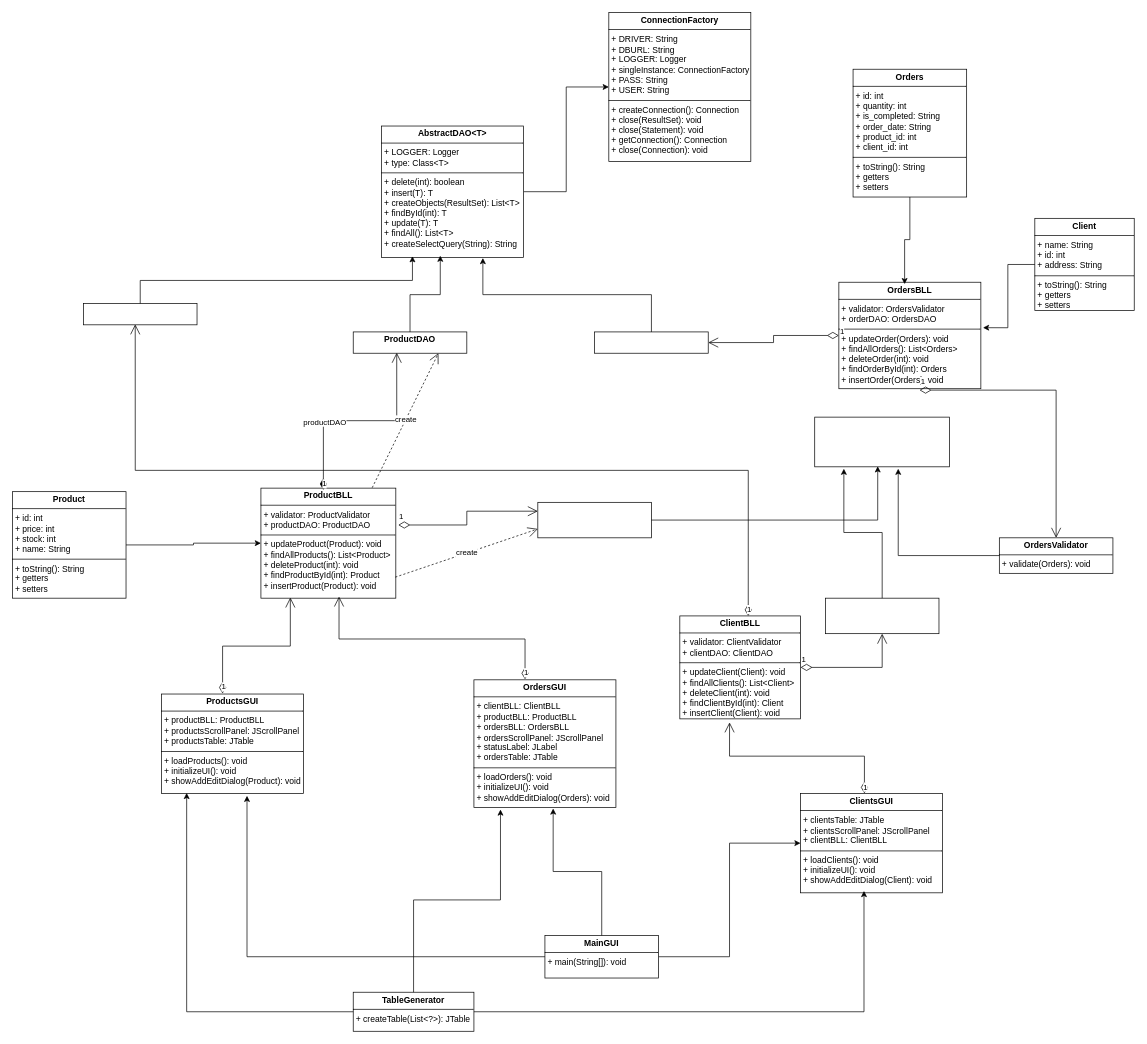
Some shapes in this 1147 by 1044 pixel diagram are drawn without their labels. The centre of each missing label's shape, as x and y in pixels:
<<Interface>> Validator<T> + validate(T): void: [882,441]
ClientDAO: [140,314]
ClientValidator + validate(Client): void: [882,615]
OrdersDAO: [651,342]
ProductValidator + validate(Product): void: [594,520]
